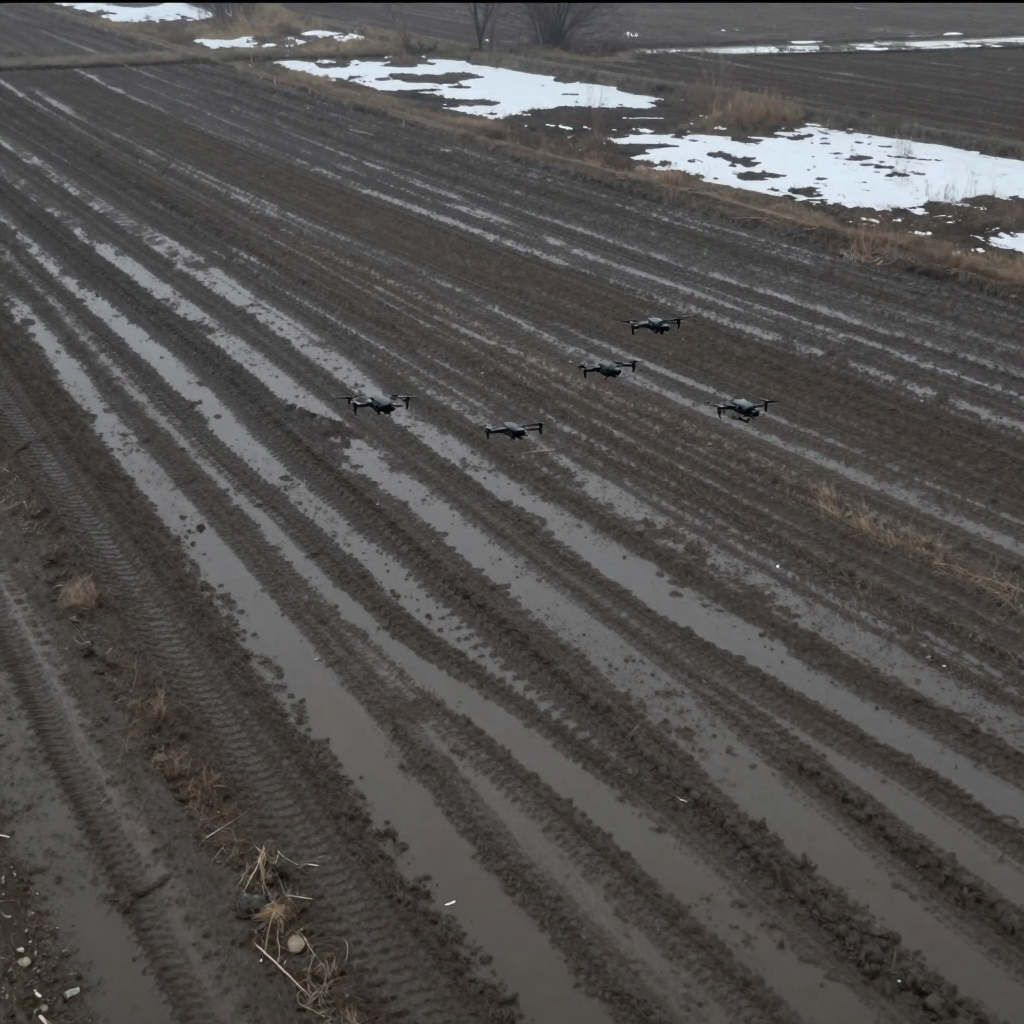drone: (337, 392, 414, 418), (705, 398, 780, 423), (618, 315, 694, 335), (578, 359, 640, 379), (484, 421, 544, 441)
